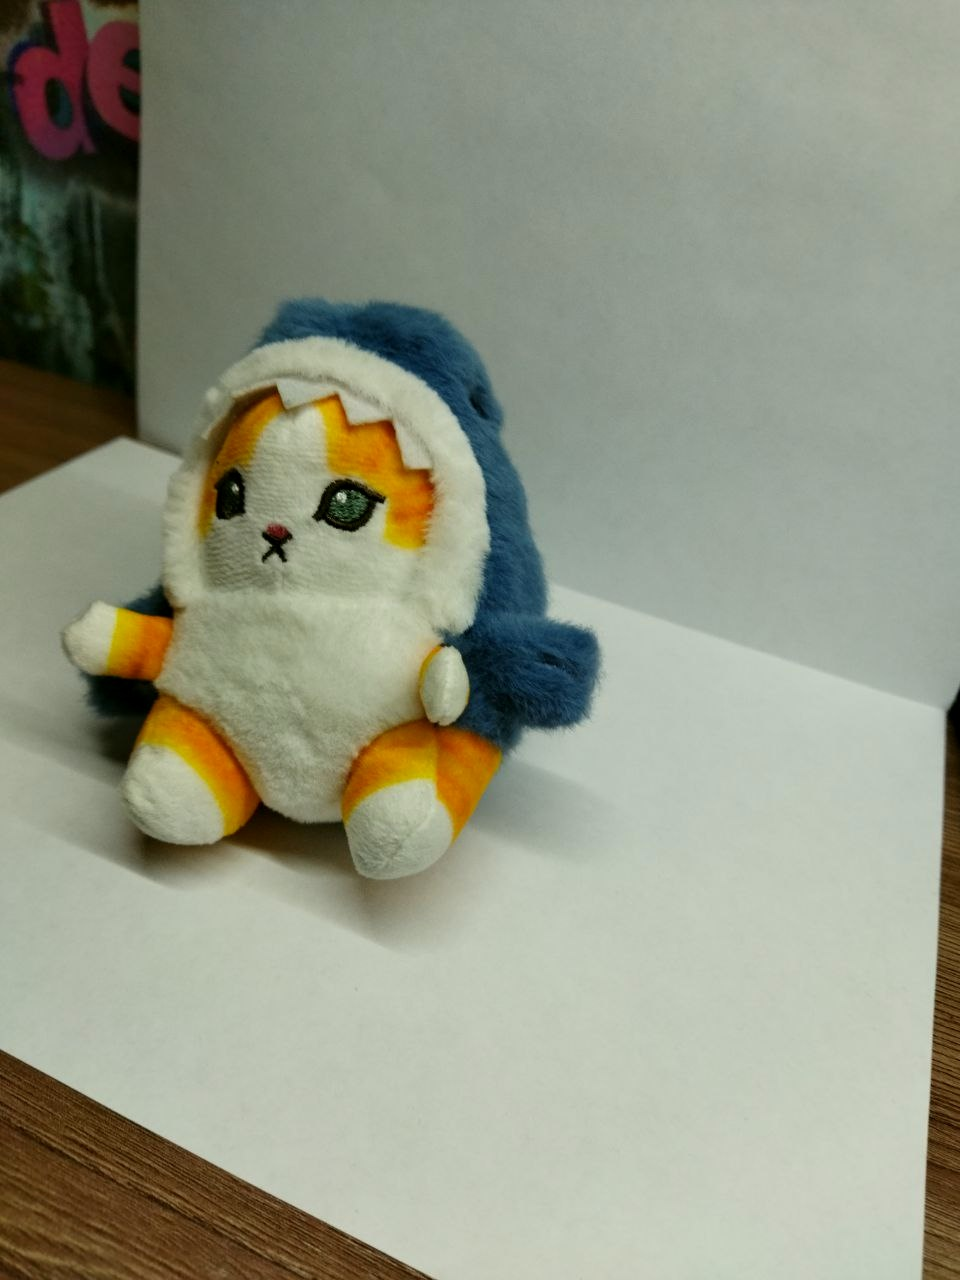Snark Cat: (72, 297, 603, 877)
